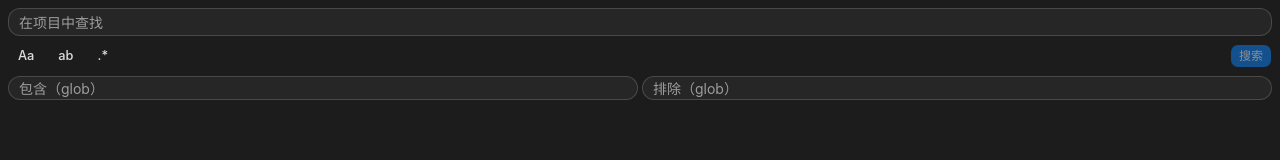
Test: ProjectSearchPanel › cancellation › stops on 停止 without reporting a failure
Type "needle" into the field labelled "在项目中查找" at (640, 22), box x1=8 y1=8 x2=1272 y2=36
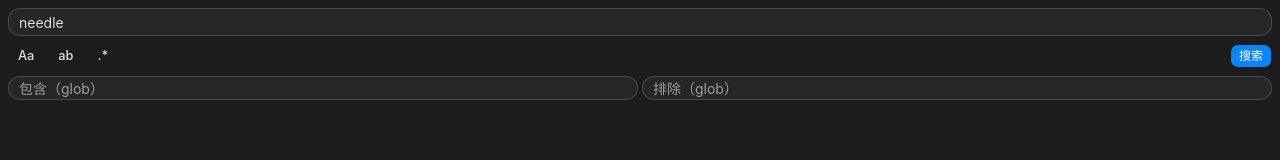
Click the button "搜索" at (1251, 56), box x1=1230 y1=44 x2=1272 y2=68
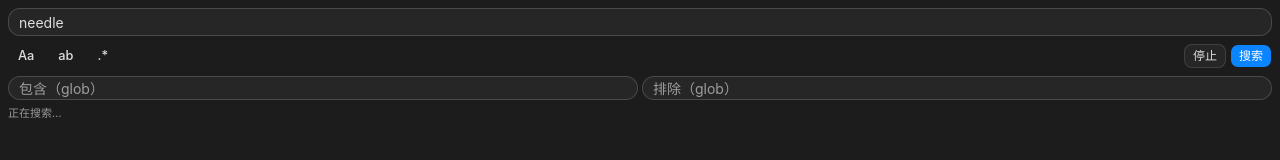
Click the button "停止" at (1205, 56), box x1=1184 y1=44 x2=1226 y2=68
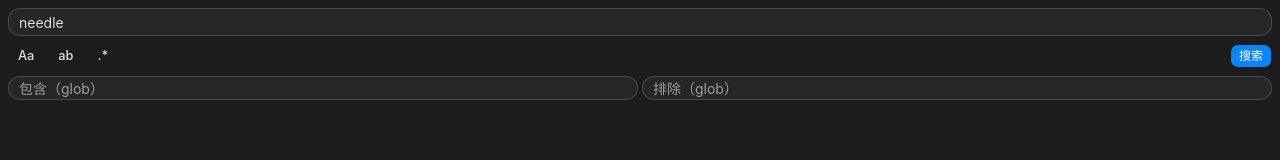
expect the button "停止" is gone: met
expect the text "正在搜索…" is gone: met
